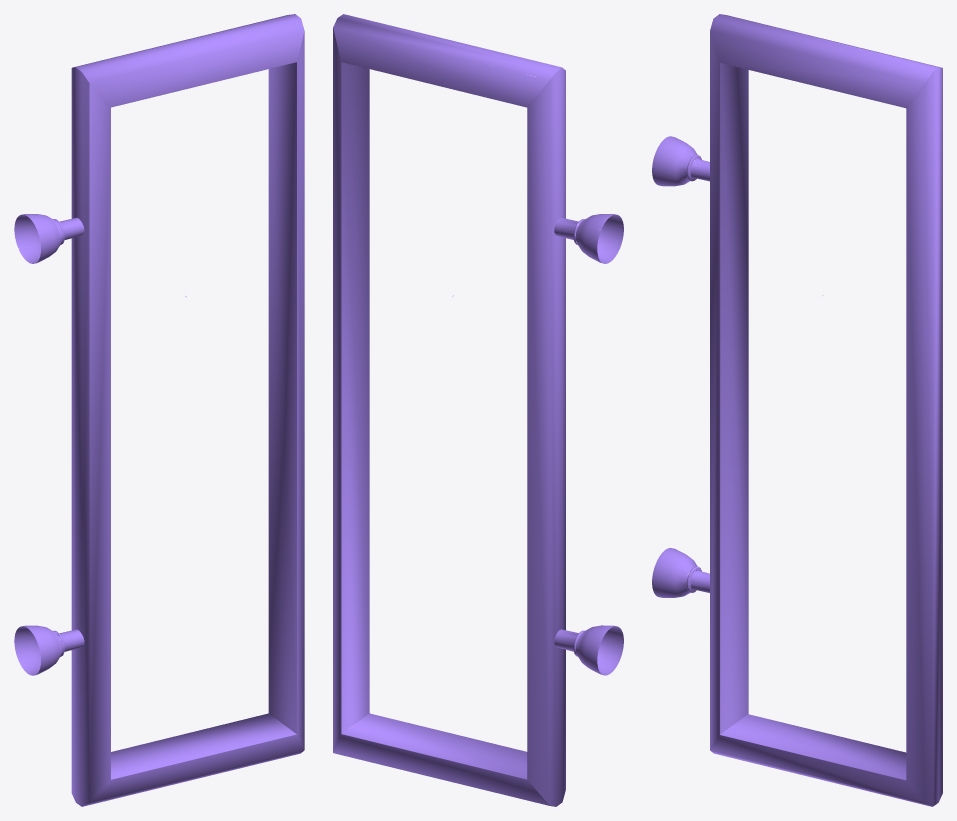
Rendered from Placa.fbx.
3 views of the same model, side by side, from view 1: azimuth 30°, elevation 25°; view 2: azimuth 150°, elevation 25°; view 3: azimuth 330°, elevation 25° (orthographic).
Visible parts, largest first — view 1: Placa; view 2: Placa; view 3: Placa.
Part boxes in pixels (x1,y1,x2,y2): Placa: (14,14,304,806); Placa: (333,14,623,806); Placa: (652,14,942,806).
Bounding box in the file's own units: 388 × 1008 × 70.76.
